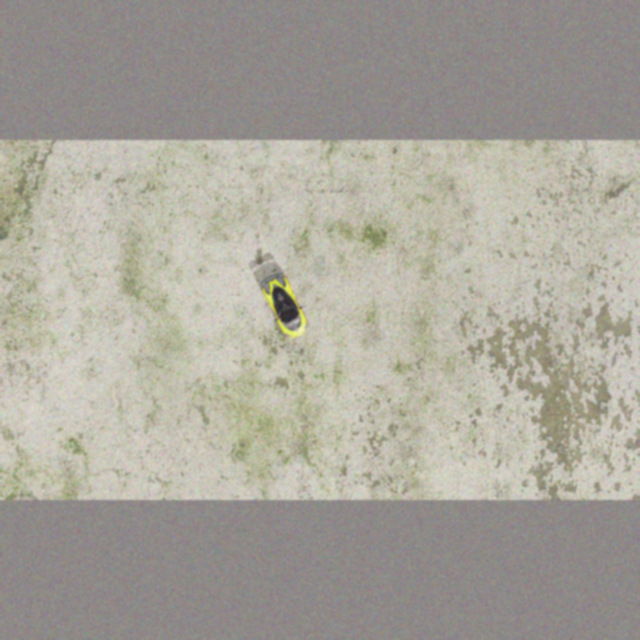car: (256, 267, 313, 342)
